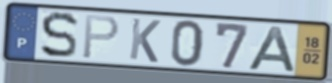0: (169, 18, 207, 68)
7: (213, 20, 250, 70)
A: (246, 24, 299, 74)
K: (127, 16, 163, 65)
P: (80, 14, 121, 61)
S: (39, 10, 80, 60)
